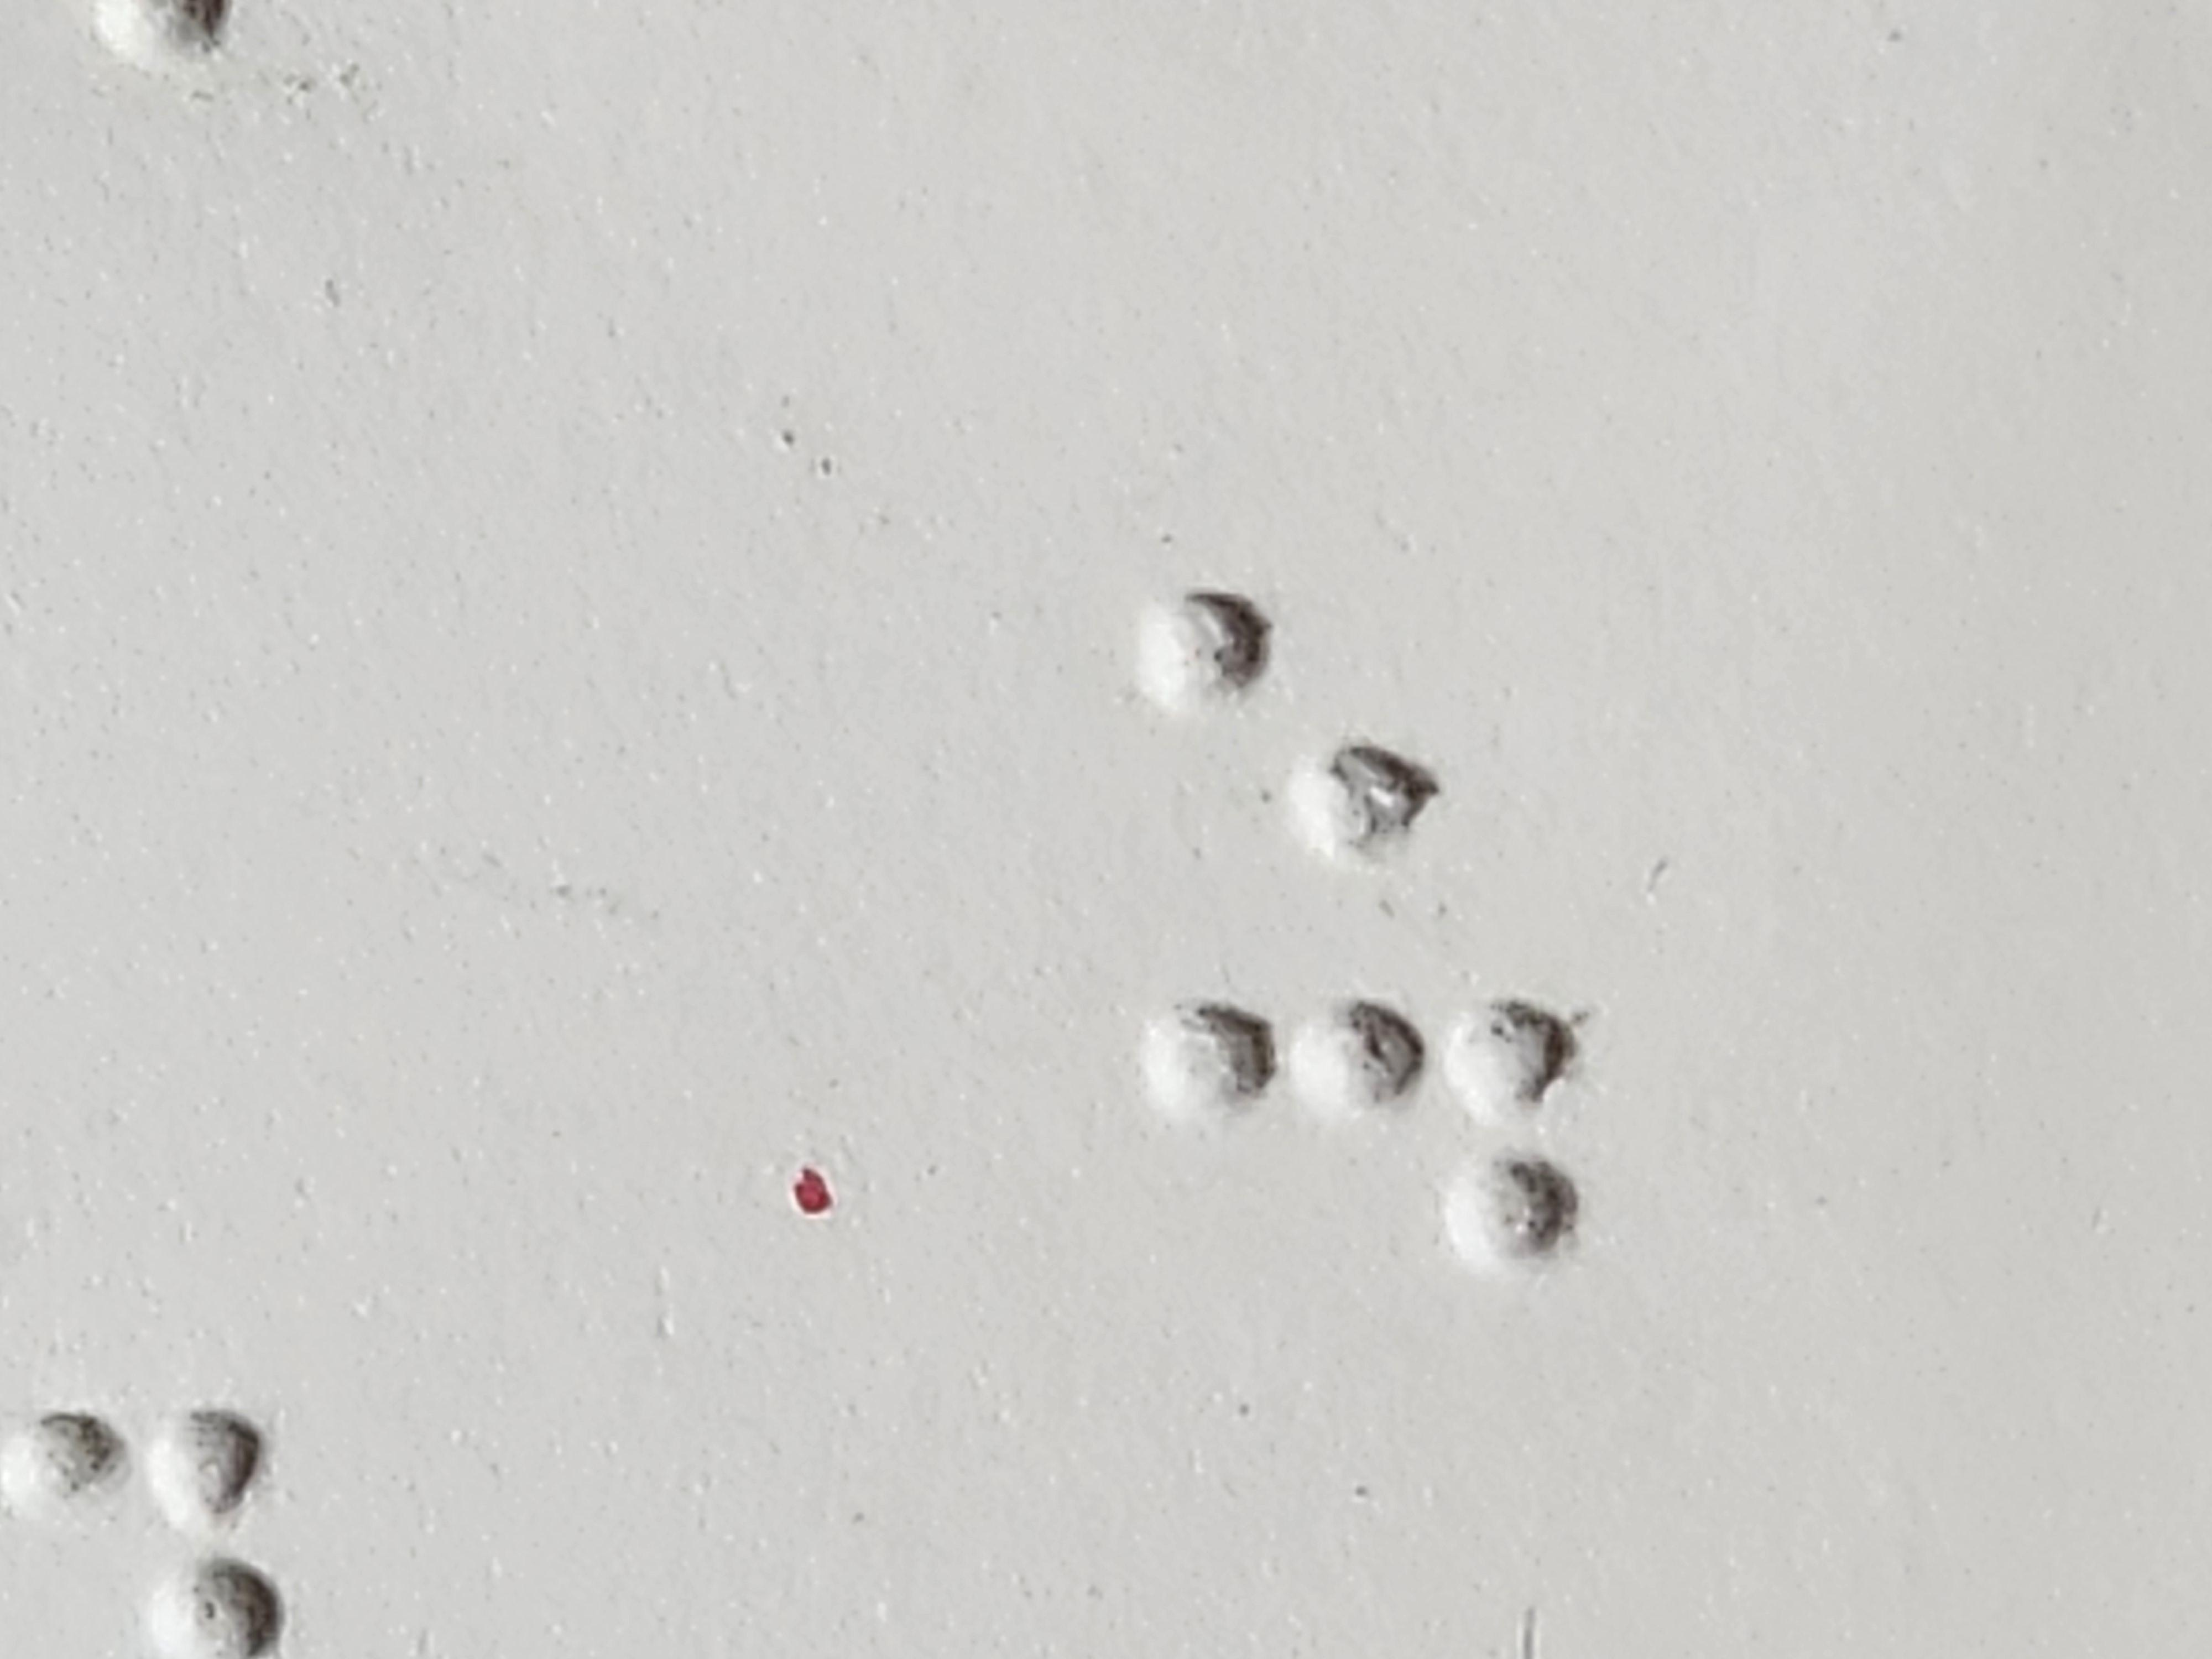digit_9: (1068, 850, 1428, 1176)
number_sign: (524, 850, 885, 1176)
